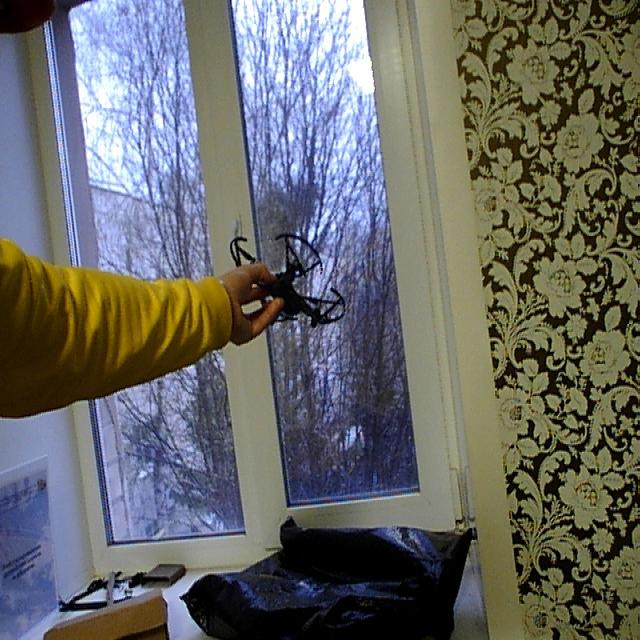drone: (218, 213, 361, 354)
